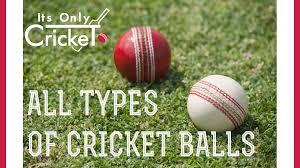Cricket-Ball: (181, 67, 255, 130), (112, 26, 176, 87)
